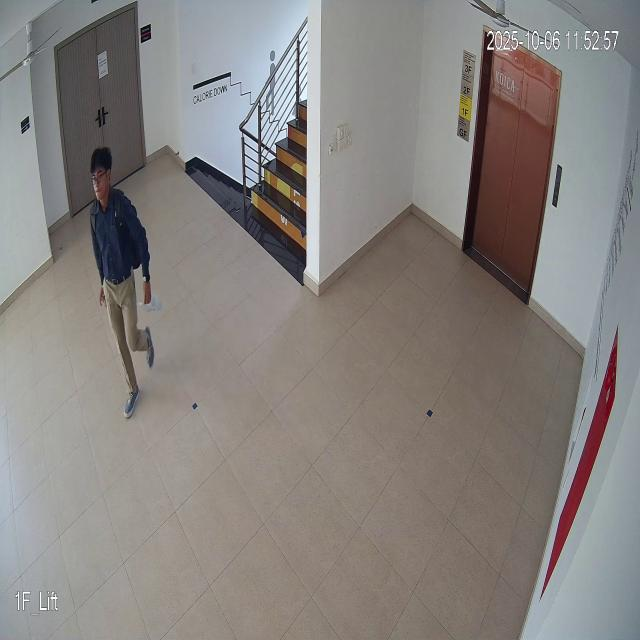face: (89, 140, 115, 209)
